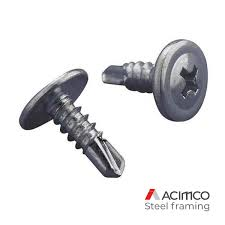TORNILLOS: (19, 36, 208, 181)
